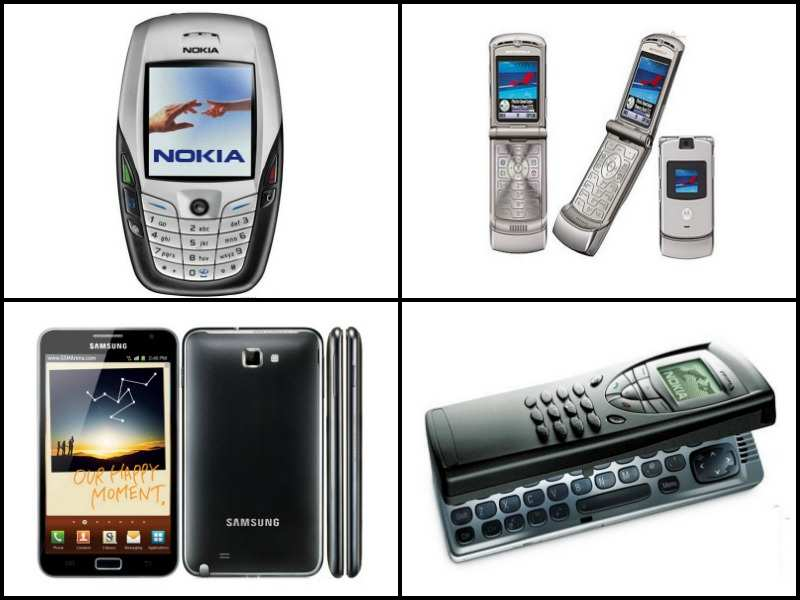mobile: (36, 320, 180, 585), (183, 321, 324, 583)
